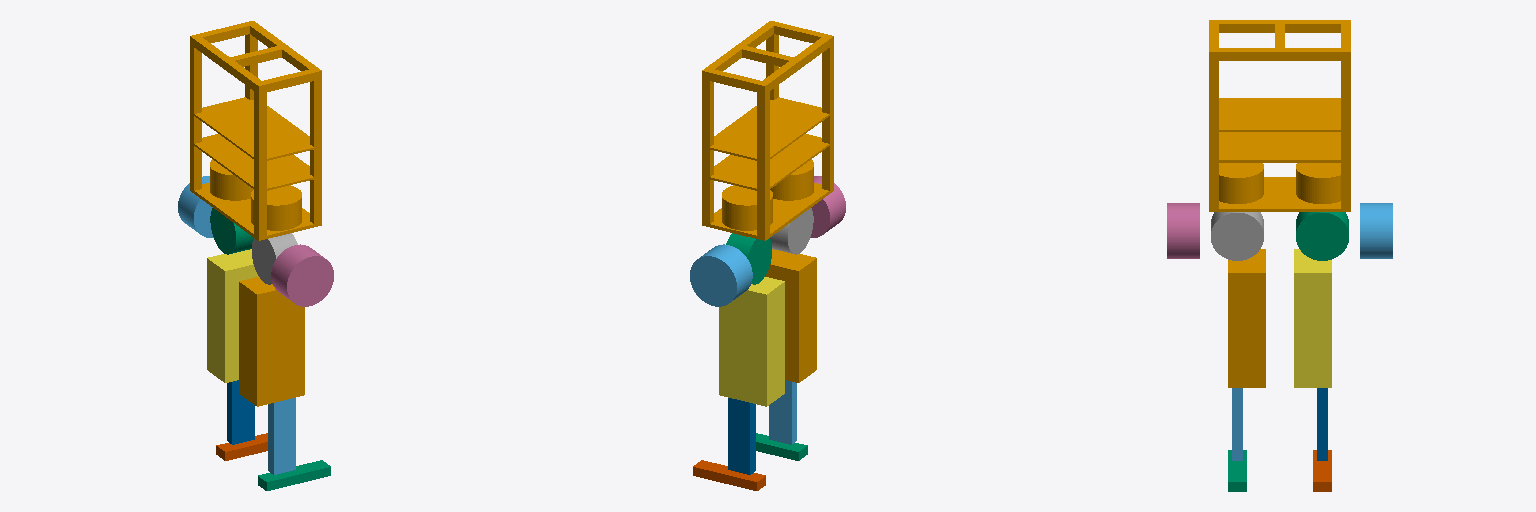
robot.urdf — v6:
<?xml version="1.0" ?>
<robot name="v6">

<material name="silver">
  <color rgba="0.700 0.700 0.700 1.000"/>
</material>


<link name="base_link">
  <inertial>
    <origin xyz="0.006 0 0.095" rpy="0 0 0"/>
    <mass value="8.010643"/>
    <inertia ixx="0.1635" iyy="0.1096" izz="0.08605" ixy="0" iyz="0" ixz="-0.004905"/>
  </inertial>
  <visual>
    <origin xyz="0 0 -0.016" rpy="0 0 0"/>
    <geometry>
      <mesh filename="meshes/base_link.stl" scale="0.001 0.001 0.001"/>
    </geometry>
    <material name="silver"/>
    <material/>
  </visual>
  <collision>
    <origin xyz="0 0 0.1665" rpy="0 0 0"/>
    <geometry>
       <box size="0.160 0.300 0.365"/>
    </geometry>
  </collision>
</link>

<link name="hip-L-1_1">
  <inertial>
    <origin xyz="-6.189197686711422e-18 0.081816 -0.073193" rpy="0 0 0"/>
    <mass value="2.976066"/>
    <inertia ixx="0.01329" iyy="0.006238" izz="0.01125" ixy="0" iyz="-0.003457" ixz="0"/>
  </inertial>
  <visual>
    <origin xyz="-0.0 -0.09 0.0" rpy="0 0 0"/>
    <geometry>
      <mesh filename="meshes/hip-L-1_1.stl" scale="0.001 0.001 0.001"/>
    </geometry>
    <material name="silver"/>
    <material/>
  </visual>
  <!-- <collision>
    <origin xyz="0 0.114 -0.08" rpy="1.5707963 0 0"/>
    <geometry>
      <cylinder radius="0.0595" length="0.069"/>
    </geometry>
  </collision> -->
</link>

<link name="hip-L-2_1">
  <inertial>
    <origin xyz="0 -0.078238 -0.00696" rpy="0 0 0"/>
    <mass value="1.962229"/>
    <inertia ixx="0.003932" iyy="0.002264" izz="0.003152" ixy="0" iyz="0" ixz="0"/>
  </inertial>
  <visual>
    <origin xyz="-0.0 -0.1695 0.08" rpy="0 0 0"/>
    <geometry>
      <mesh filename="meshes/hip-L-2_1.stl" scale="0.001 0.001 0.001"/>
    </geometry>
    <material name="silver"/>
    <material/>
  </visual>
  <!-- <collision>
    <origin xyz="0 -0.0795 0" rpy=" 0 1.5707 0"/>
    <geometry>
      <cylinder radius="0.0565" length="0.061"/>
    </geometry>
  </collision> -->
</link>

<link name="thigh-L_1">
  <inertial>
    <origin xyz="-0.032881 -0.019651 -0.188957" rpy="0 0 0"/>
    <mass value="3.965636"/>
    <inertia ixx="0.03332" iyy="0.03585" izz="0.00632" ixy="0" iyz="0.001235" ixz="0.004203"/>
  </inertial>
  <visual>
    <origin xyz="-0.0305 -0.09 0.08" rpy="0 0 0"/>
    <geometry>
      <mesh filename="meshes/thigh-L_1.stl" scale="0.001 0.001 0.001"/>
    </geometry>
    <material name="silver"/>
    <material/>
  </visual>
  <collision>
    <origin xyz="-0.031 -0.02 -0.240" rpy="0 0 0"/>
    <geometry>
      <box size="0.12 0.08 0.2"/>
    </geometry>
  </collision>
</link>


<link name="shank-L_1">
  <inertial>
    <origin xyz="0.020174 -0.011965 -0.118449" rpy="0 0 0"/>
    <mass value="0.817887"/>
    <inertia ixx="0.005919" iyy="0.006802" izz="0.0009646" ixy="0.0" iyz="0" ixz="-0.0007655"/>
  </inertial>
  <visual>
    <origin xyz="0.0005 -0.1025 0.36" rpy="0 0 0"/>
    <geometry>
      <mesh filename="meshes/shank-L_1.stl" scale="0.001 0.001 0.001"/>
    </geometry>
    <material name="silver"/>
    <material/>
  </visual>
  <!-- <collision>
    <origin xyz="0.0005 -0.1025 0.36" rpy="0 0 0"/>
    <geometry>
      <mesh filename="meshes/shank-L_1.stl" scale="0.001 0.001 0.001"/>
    </geometry>
  </collision> -->
</link>

<link name="foot-L_1">
  <inertial>
    <origin xyz="0.04057 0 -0.028042" rpy="0 0 0"/>
    <mass value="0.243354"/>
    <inertia ixx="0.0001416" iyy="0.0005063" izz="0.0004175" ixy="0.0" iyz="0" ixz="-0.0001864"/>
  </inertial>
  <visual>
    <origin xyz="0.0005 -0.09 0.5845" rpy="0 0 0"/>
    <geometry>
      <mesh filename="meshes/foot-L_1.stl" scale="0.001 0.001 0.001"/>
    </geometry>
    <material name="silver"/>
    <material/>
  </visual>
  <collision>
    <origin xyz="0.0455 0.009 -0.034" rpy="0 1.57079632679 0"/>
    <geometry>
      <cylinder radius="0.011" length="0.141" rpy="0 0 0"/>
    </geometry>
  </collision>
  <collision>
    <origin xyz="0.0455 -0.009 -0.034" rpy="0 1.57079632679 0"/>
    <geometry>
      <cylinder radius="0.011" length="0.141" rpy="0 0 0"/>
    </geometry>
  </collision>
</link>



<link name="hip-R-1_1">
  <inertial>
    <origin xyz="-6.189197686711422e-18 -0.081816 -0.073193" rpy="0 0 0"/>
    <mass value="2.976066"/>
    <inertia ixx="0.01329" iyy="0.006238" izz="0.01125" ixy="0" iyz="0.003457" ixz="0"/>
  </inertial>
  <visual>
    <origin xyz="0.0 0.09 -0.0" rpy="0 0 0"/>
    <geometry>
      <mesh filename="meshes/hip-R-1_1.stl" scale="0.001 0.001 0.001"/>
    </geometry>
    <material name="silver"/>
    <material/>
  </visual>
  <!-- <collision>
    <origin xyz="0 -0.114 -0.08" rpy="1.5707963 0 0"/>
    <geometry>
      <cylinder radius="0.0595" length="0.069"/>
    </geometry>
  </collision> -->
</link>

<link name="hip-R-2_1">
  <inertial>
    <origin xyz="0 0.078238 -0.00696" rpy="0 0 0"/>
    <mass value="1.962229"/>
    <inertia ixx="0.003932" iyy="0.002264" izz="0.003152" ixy="0" iyz="0" ixz="0"/>
  </inertial>
  <visual>
    <origin xyz="0.0 0.1695 0.08" rpy="0 0 0"/>
    <geometry>
      <mesh filename="meshes/hip-R-2_1.stl" scale="0.001 0.001 0.001"/>
    </geometry>
    <material name="silver"/>
    <material/>
  </visual>
  <!-- <collision>
    <origin xyz="0 0.0795 0" rpy=" 0 1.5707 0"/>
    <geometry>
      <cylinder radius="0.0565" length="0.061"/>
    </geometry>
  </collision> -->
</link>

<link name="thigh-R_1">
  <inertial>
    <origin xyz="-0.032881 0.019651 -0.188957" rpy="0 0 0"/>
    <mass value="3.965636"/>
    <inertia ixx="0.03332" iyy="0.03585" izz="0.00632" ixy="0" iyz="-0.001235" ixz="0.004203"/>
  </inertial>
  <visual>
    <origin xyz="-0.0305 0.09 0.08" rpy="0 0 0"/>
    <geometry>
      <mesh filename="meshes/thigh-R_1.stl" scale="0.001 0.001 0.001"/>
    </geometry>
    <material name="silver"/>
    <material/>
  </visual>
  <collision>
    <origin xyz="-0.031 -0.02 -0.240" rpy="0 0 0"/>
    <geometry>
      <box size="0.12 0.08 0.2"/>
    </geometry>
  </collision>
</link>



<link name="shank-R_1">
  <inertial>
    <origin xyz="0.020174 0.011965 -0.118449" rpy="0 0 0"/>
    <mass value="0.817887"/>
    <inertia ixx="0.005919" iyy="0.006802" izz="0.0009646" ixy="0.0" iyz="0" ixz="-0.0007655"/>
  </inertial>
  <visual>
    <origin xyz="0.0005 0.1025 0.36" rpy="0 0 0"/>
    <geometry>
      <mesh filename="meshes/shank-R_1.stl" scale="0.001 0.001 0.001"/>
    </geometry>
    <material name="silver"/>
    <material/>
  </visual>
  <!-- <collision>
    <origin xyz="0.0005 0.1025 0.36" rpy="0 0 0"/>
    <geometry>
      <mesh filename="meshes/shank-R_1.stl" scale="0.001 0.001 0.001"/>
    </geometry>
  </collision> -->
</link>


<link name="foot-R_1">
  <inertial>
    <origin xyz="0.04057 0 -0.028042" rpy="0 0 0"/>
    <mass value="0.243354"/>
    <inertia ixx="0.0001416" iyy="0.0005063" izz="0.0004175" ixy="0.0" iyz="0" ixz="-0.0001864"/>
  </inertial>
  <visual>
    <origin xyz="0.0005 0.09 0.5845" rpy="0 0 0"/>
    <geometry>
      <mesh filename="meshes/foot-R_1.stl" scale="0.001 0.001 0.001"/>
    </geometry>
    <material name="silver"/>
    <material/>
  </visual>
  <collision>
    <origin xyz="0.0455 0.009 -0.034" rpy="0 1.57079632679 0"/>
    <geometry>
      <cylinder radius="0.011" length="0.141" rpy="0 0 0"/>
    </geometry>
  </collision>
  <collision>
    <origin xyz="0.0455 -0.009 -0.034" rpy="0 1.57079632679 0"/>
    <geometry>
      <cylinder radius="0.011" length="0.141" rpy="0 0 0"/>
    </geometry>
  </collision>
</link>



<joint name="l-hip-0" type="revolute">
  <origin xyz="0.0 0.09 -0.016" rpy="0 0 0"/>
  <parent link="base_link"/>
  <child link="hip-L-1_1"/>
  <axis xyz="-0.0 0.0 -1.0"/>
  <limit upper="0.523599" lower="-1.047198" effort="81" velocity="13.333"/>
</joint>
<transmission name="l-hip-0_tran">
  <type>transmission_interface/SimpleTransmission</type>
  <joint name="l-hip-0">
    <hardwareInterface>PositionJointInterface</hardwareInterface>
  </joint>
  <actuator name="l-hip-0_actr">
    <hardwareInterface>PositionJointInterface</hardwareInterface>
    <mechanicalReduction>1</mechanicalReduction>
  </actuator>
</transmission>

<joint name="l-hip-1" type="revolute">
  <origin xyz="0.0 0.0795 -0.08" rpy="0 0 0"/>
  <parent link="hip-L-1_1"/>
  <child link="hip-L-2_1"/>
  <axis xyz="-0.0 -1.0 0.0"/>
  <limit upper="1.570796" lower="-1.570796" effort="90" velocity="12"/>
</joint>
<transmission name="l-hip-1_tran">
  <type>transmission_interface/SimpleTransmission</type>
  <joint name="l-hip-1">
    <hardwareInterface>PositionJointInterface</hardwareInterface>
  </joint>
  <actuator name="l-hip-1_actr">
    <hardwareInterface>PositionJointInterface</hardwareInterface>
    <mechanicalReduction>1</mechanicalReduction>
  </actuator>
</transmission>

<joint name="l-hip-2" type="revolute">
  <origin xyz="0.0305 -0.0795 0.0" rpy="0 0 0"/>
  <parent link="hip-L-2_1"/>
  <child link="thigh-L_1"/>
  <axis xyz="1.0 -0.0 -0.0"/>
  <limit upper="0.628319" lower="-0.349066" effort="81" velocity="13.333"/>
</joint>
<transmission name="l-hip-2_tran">
  <type>transmission_interface/SimpleTransmission</type>
  <joint name="l-hip-2">
    <hardwareInterface>PositionJointInterface</hardwareInterface>
  </joint>
  <actuator name="l-hip-2_actr">
    <hardwareInterface>PositionJointInterface</hardwareInterface>
    <mechanicalReduction>1</mechanicalReduction>
  </actuator>
</transmission>

<joint name="l-shank-3" type="revolute">
  <origin xyz="-0.031 0.0125 -0.28" rpy="0 0 0"/>
  <parent link="thigh-L_1"/>
  <child link="shank-L_1"/>
  <axis xyz="0.0 1.0 -0.0"/>
  <limit upper="1.570796" lower="0.0" effort="81" velocity="13.333"/>
</joint>
<transmission name="l-shank-3_tran">
  <type>transmission_interface/SimpleTransmission</type>
  <joint name="l-shank-3">
    <hardwareInterface>PositionJointInterface</hardwareInterface>
  </joint>
  <actuator name="l-shank-3_actr">
    <hardwareInterface>PositionJointInterface</hardwareInterface>
    <mechanicalReduction>1</mechanicalReduction>
  </actuator>
</transmission>

<joint name="l-foot-4" type="revolute">
  <origin xyz="0.0 -0.0125 -0.2245" rpy="0 0 0"/>
  <parent link="shank-L_1"/>
  <child link="foot-L_1"/>
  <axis xyz="-0.0 1.0 0.0"/>
  <limit upper="0.802851" lower="-0.628319" effort="45" velocity="10.667"/>
</joint>
<transmission name="l-foot-4_tran">
  <type>transmission_interface/SimpleTransmission</type>
  <joint name="l-foot-4">
    <hardwareInterface>PositionJointInterface</hardwareInterface>
  </joint>
  <actuator name="l-foot-4_actr">
    <hardwareInterface>PositionJointInterface</hardwareInterface>
    <mechanicalReduction>1</mechanicalReduction>
  </actuator>
</transmission>

<joint name="r-hip-0" type="revolute">
  <origin xyz="0.0 -0.09 -0.016" rpy="0 0 0"/>
  <parent link="base_link"/>
  <child link="hip-R-1_1"/>
  <axis xyz="-0.0 0.0 -1.0"/>
  <limit upper="1.047198" lower="-0.523599" effort="81" velocity="13.333"/>
</joint>
<transmission name="r-hip-0_tran">
  <type>transmission_interface/SimpleTransmission</type>
  <joint name="r-hip-0">
    <hardwareInterface>PositionJointInterface</hardwareInterface>
  </joint>
  <actuator name="r-hip-0_actr">
    <hardwareInterface>PositionJointInterface</hardwareInterface>
    <mechanicalReduction>1</mechanicalReduction>
  </actuator>
</transmission>

<joint name="r-hip-1" type="revolute">
  <origin xyz="0.0 -0.0795 -0.08" rpy="0 0 0"/>
  <parent link="hip-R-1_1"/>
  <child link="hip-R-2_1"/>
  <axis xyz="0.0 1.0 -0.0"/>
  <limit upper="1.570796" lower="-1.570796" effort="90" velocity="12"/>
</joint>
<transmission name="r-hip-1_tran">
  <type>transmission_interface/SimpleTransmission</type>
  <joint name="r-hip-1">
    <hardwareInterface>PositionJointInterface</hardwareInterface>
  </joint>
  <actuator name="r-hip-1_actr">
    <hardwareInterface>PositionJointInterface</hardwareInterface>
    <mechanicalReduction>1</mechanicalReduction>
  </actuator>
</transmission>

<joint name="r-hip-2" type="revolute">
  <origin xyz="0.0305 0.0795 0.0" rpy="0 0 0"/>
  <parent link="hip-R-2_1"/>
  <child link="thigh-R_1"/>
  <axis xyz="1.0 -0.0 -0.0"/>
  <limit upper="0.349066" lower="-0.628319" effort="81" velocity="13.333"/>
</joint>
<transmission name="r-hip-2_tran">
  <type>transmission_interface/SimpleTransmission</type>
  <joint name="r-hip-2">
    <hardwareInterface>PositionJointInterface</hardwareInterface>
  </joint>
  <actuator name="r-hip-2_actr">
    <hardwareInterface>PositionJointInterface</hardwareInterface>
    <mechanicalReduction>1</mechanicalReduction>
  </actuator>
</transmission>

<joint name="r-shank-3" type="revolute">
  <origin xyz="-0.031 -0.0125 -0.28" rpy="0 0 0"/>
  <parent link="thigh-R_1"/>
  <child link="shank-R_1"/>
  <axis xyz="-0.0 -1.0 0.0"/>
  <limit upper="0.0" lower="-1.570796" effort="81" velocity="13.333"/>
</joint>
<transmission name="r-shank-3_tran">
  <type>transmission_interface/SimpleTransmission</type>
  <joint name="r-shank-3">
    <hardwareInterface>PositionJointInterface</hardwareInterface>
  </joint>
  <actuator name="r-shank-3_actr">
    <hardwareInterface>PositionJointInterface</hardwareInterface>
    <mechanicalReduction>1</mechanicalReduction>
  </actuator>
</transmission>


<joint name="r-foot-4" type="revolute">
  <origin xyz="0.0 0.0125 -0.2245" rpy="0 0 0"/>
  <parent link="shank-R_1"/>
  <child link="foot-R_1"/>
  <axis xyz="0.0 -1.0 0.0"/>
  <limit upper="0.628319" lower="-0.628319" effort="45" velocity="10.667"/>
</joint>
<transmission name="r-foot-4_tran">
  <type>transmission_interface/SimpleTransmission</type>
  <joint name="r-foot-4">
    <hardwareInterface>PositionJointInterface</hardwareInterface>
  </joint>
  <actuator name="r-foot-4_actr">
    <hardwareInterface>PositionJointInterface</hardwareInterface>
    <mechanicalReduction>1</mechanicalReduction>
  </actuator>
</transmission>

</robot>

--- What the picture shows (computed from the rendered views, not written in the file) ---
The picture shows the robot from 3 angles, left to right: view 1: azimuth 30°, elevation 25°; view 2: azimuth 150°, elevation 25°; view 3: azimuth 270°, elevation 25°; orthographic projection.
Model v6 with 11 links and 10 joints (10 revolute), rooted at base_link, posed all joints at 0.
Visible links, largest first — view 1: base_link, thigh-R_1, thigh-L_1, hip-R-1_1, shank-R_1, shank-L_1, hip-L-1_1, hip-L-2_1, hip-R-2_1, foot-R_1, foot-L_1; view 2: base_link, thigh-L_1, thigh-R_1, hip-L-1_1, shank-L_1, shank-R_1, hip-R-1_1, hip-R-2_1, hip-L-2_1, foot-L_1, foot-R_1; view 3: base_link, thigh-L_1, thigh-R_1, hip-L-2_1, hip-R-2_1, hip-L-1_1, hip-R-1_1, shank-L_1, shank-R_1, foot-L_1, foot-R_1.
Boxes of the visible links, bbox=[...] form: base_link: bbox=[190, 21, 321, 240]; thigh-R_1: bbox=[239, 277, 304, 406]; thigh-L_1: bbox=[207, 249, 258, 382]; hip-R-1_1: bbox=[271, 244, 333, 306]; shank-R_1: bbox=[268, 398, 295, 474]; shank-L_1: bbox=[227, 380, 254, 444]; hip-L-1_1: bbox=[178, 176, 213, 237]; hip-L-2_1: bbox=[210, 208, 253, 254]; hip-R-2_1: bbox=[252, 233, 297, 284]; foot-R_1: bbox=[258, 460, 330, 490]; foot-L_1: bbox=[216, 433, 267, 460]; base_link: bbox=[702, 21, 833, 240]; thigh-L_1: bbox=[719, 277, 784, 406]; thigh-R_1: bbox=[765, 249, 816, 382]; hip-L-1_1: bbox=[690, 244, 752, 306]; shank-L_1: bbox=[728, 398, 755, 474]; shank-R_1: bbox=[769, 380, 796, 444]; hip-R-1_1: bbox=[810, 176, 845, 237]; hip-R-2_1: bbox=[770, 208, 813, 254]; hip-L-2_1: bbox=[726, 233, 771, 284]; foot-L_1: bbox=[693, 460, 765, 490]; foot-R_1: bbox=[756, 433, 807, 460]; base_link: bbox=[1209, 20, 1350, 211]; thigh-L_1: bbox=[1294, 249, 1331, 387]; thigh-R_1: bbox=[1228, 249, 1265, 387]; hip-L-2_1: bbox=[1296, 212, 1348, 260]; hip-R-2_1: bbox=[1211, 212, 1263, 260]; hip-L-1_1: bbox=[1360, 203, 1392, 258]; hip-R-1_1: bbox=[1167, 203, 1199, 258]; shank-L_1: bbox=[1317, 388, 1327, 460]; shank-R_1: bbox=[1232, 388, 1242, 460]; foot-L_1: bbox=[1313, 450, 1331, 491]; foot-R_1: bbox=[1228, 450, 1246, 491].
Size in the robot's own frame: 0.2065 by 0.477 by 1 metres.
11 mesh visuals loaded from 11 distinct referenced files (11 binary STL).